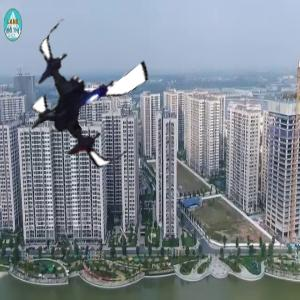drone: (12, 17, 165, 170)
